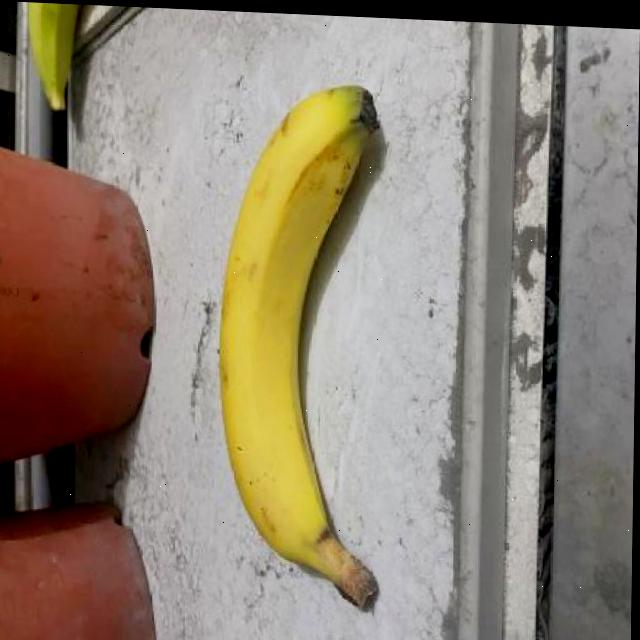banana: (212, 77, 386, 608)
